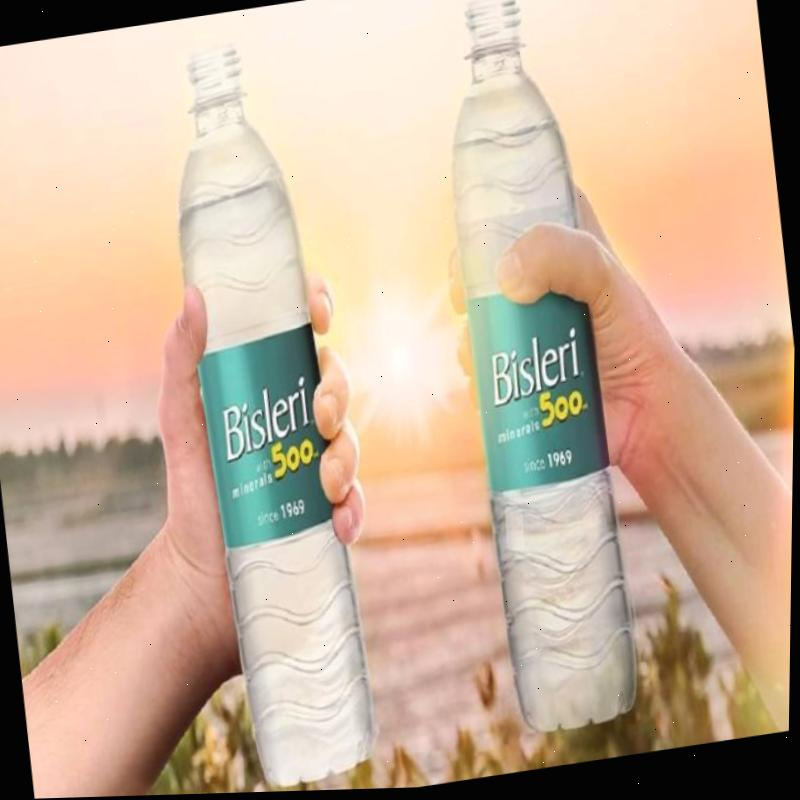botella: (148, 29, 391, 795), (420, 0, 652, 746)
